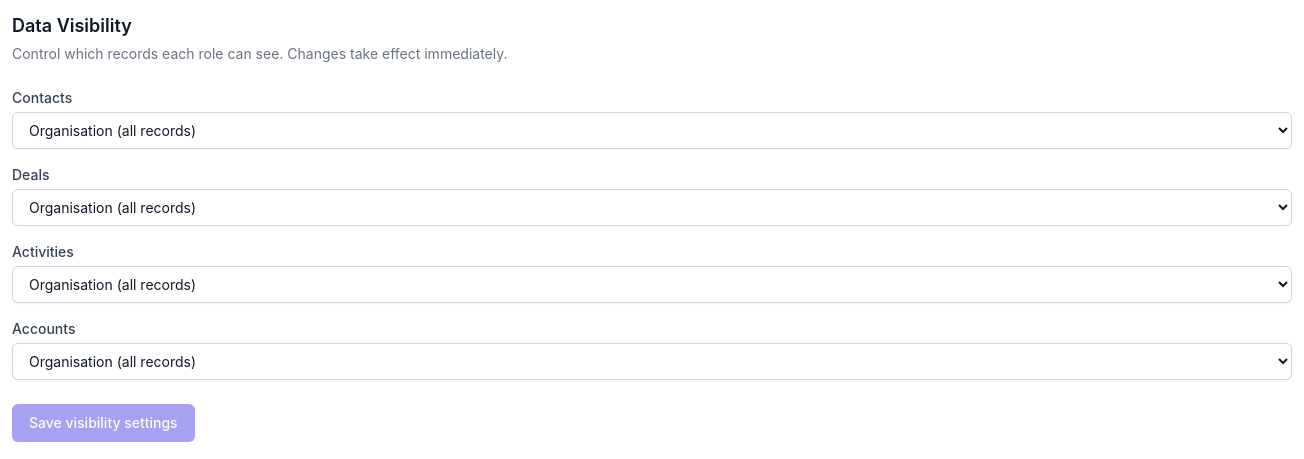
VisibilitySettings — save flow › disables the save button again after a successful save
The width and height of the screenshot is (1304, 459).
Expected: the dropdown with test id "visibility-contacts-select" is shown, [12,112,1292,149]
Select "Private (own records only)" in the dropdown with test id "visibility-deals-select" at [652, 208], box [12,189,1292,226]
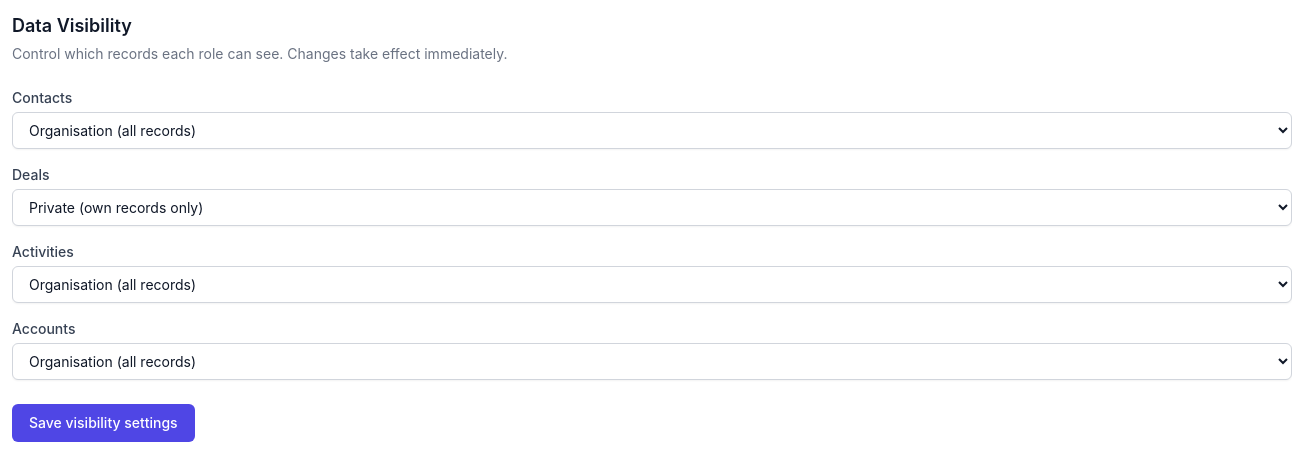
Click the button with test id "visibility-settings-save-button" at [103, 423], box [12,404,195,442]
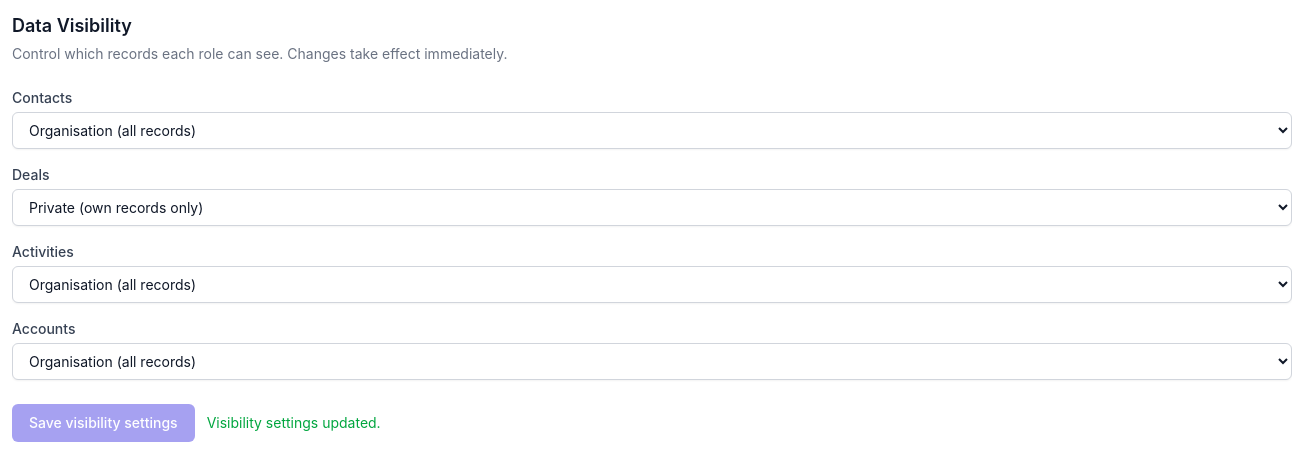
Now the message "Visibility settings updated." is shown, box [207,413,381,433]
Now the button with test id "visibility-settings-save-button" is disabled, box [12,404,195,442]
